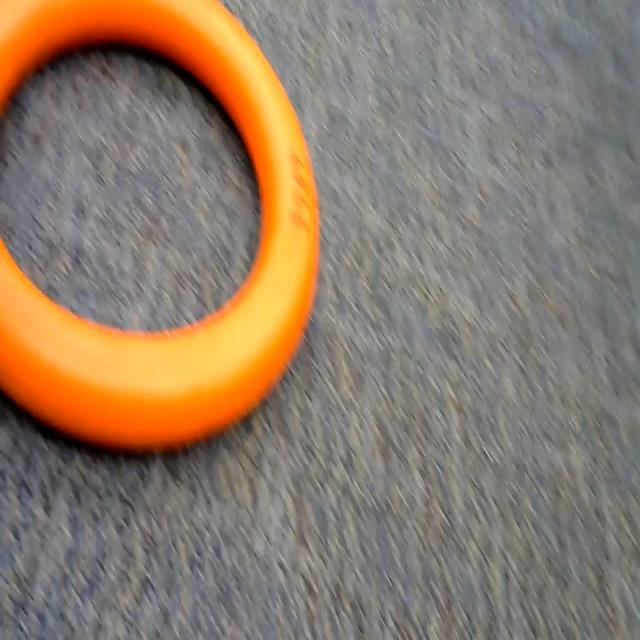note: (0, 0, 320, 465)
